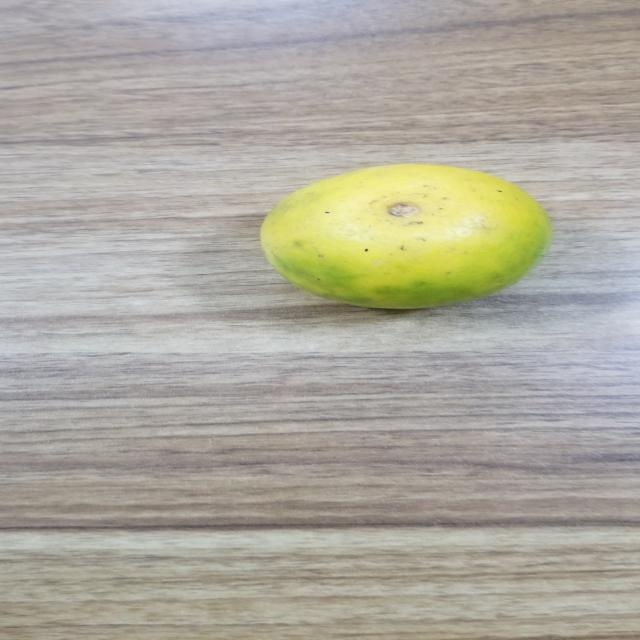agrume: (255, 156, 565, 312)
